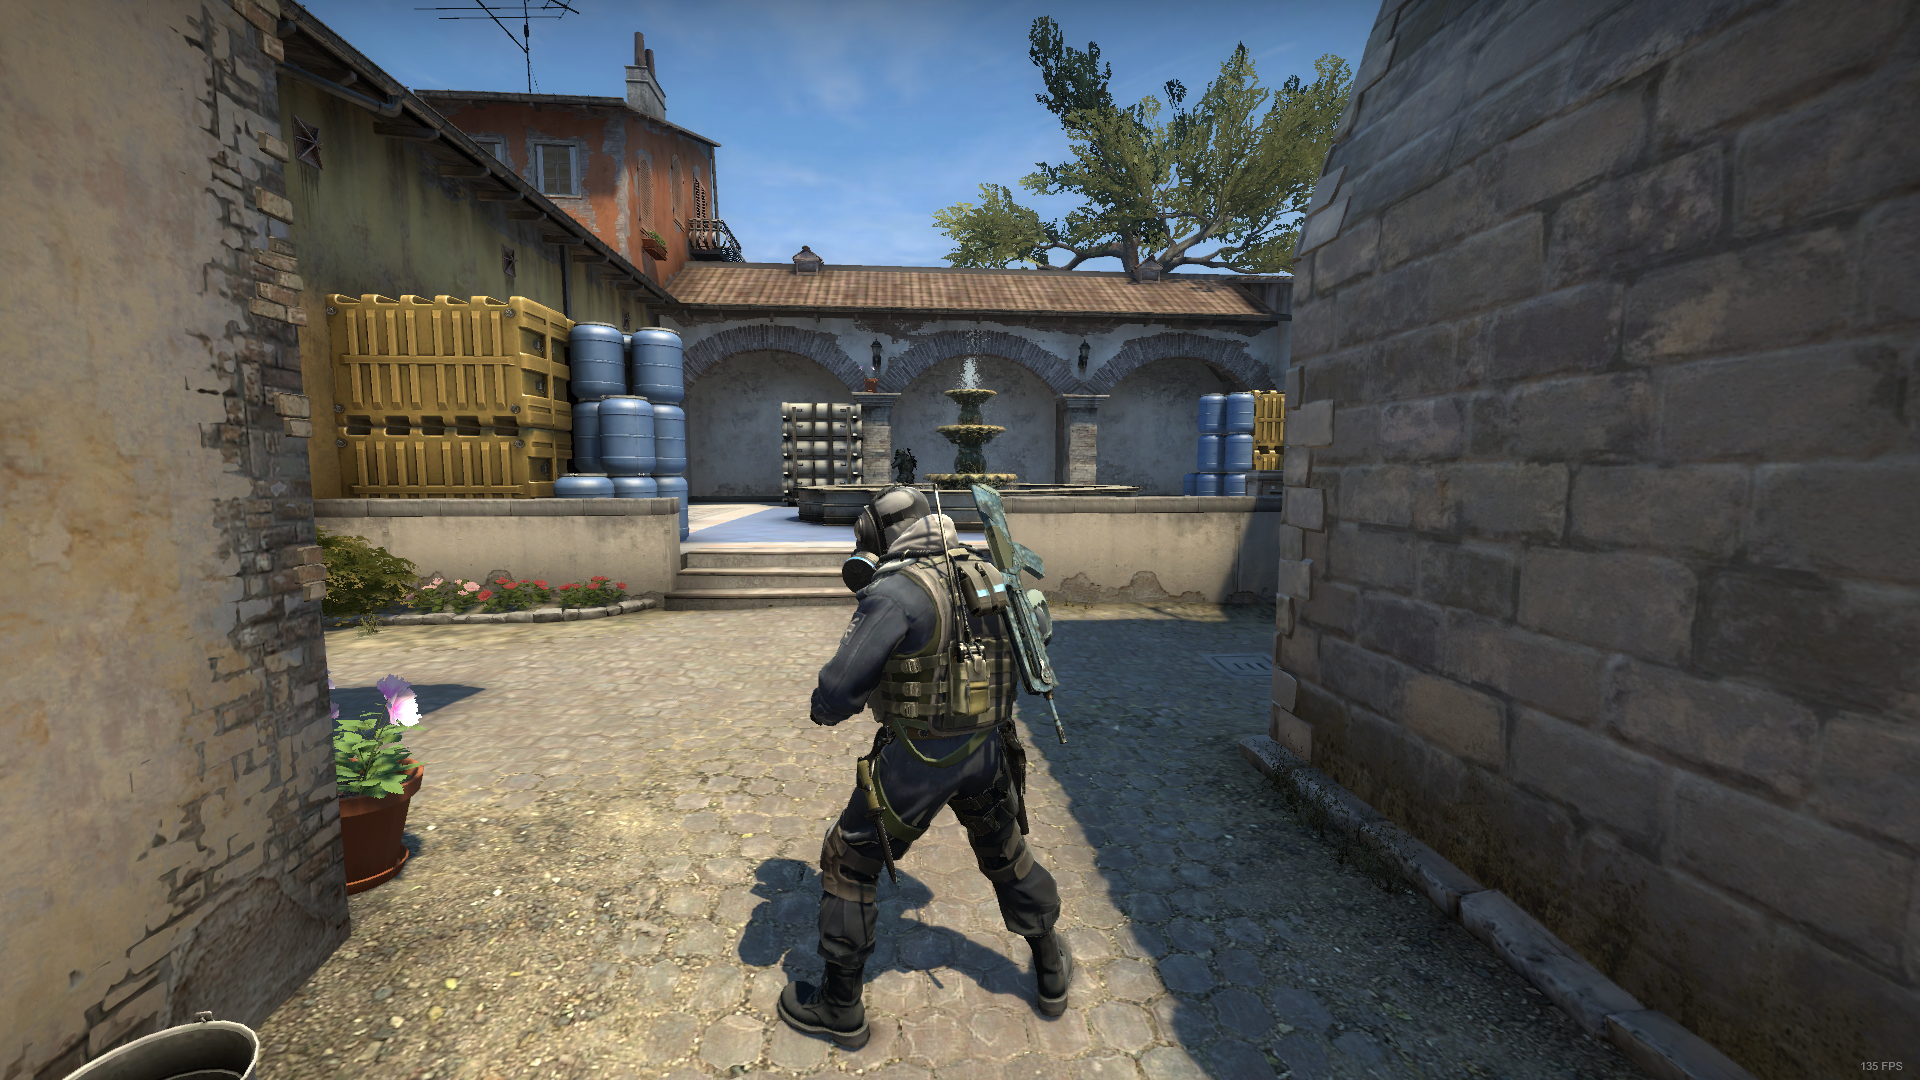ct: (774, 480, 1080, 1062)
